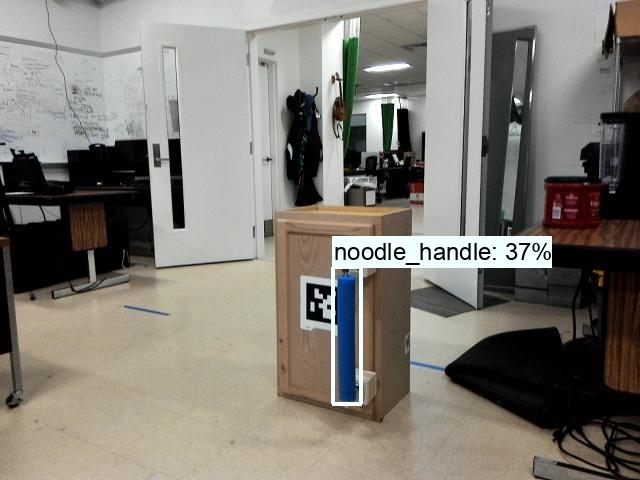noodle_handle: (335, 267, 359, 400)
